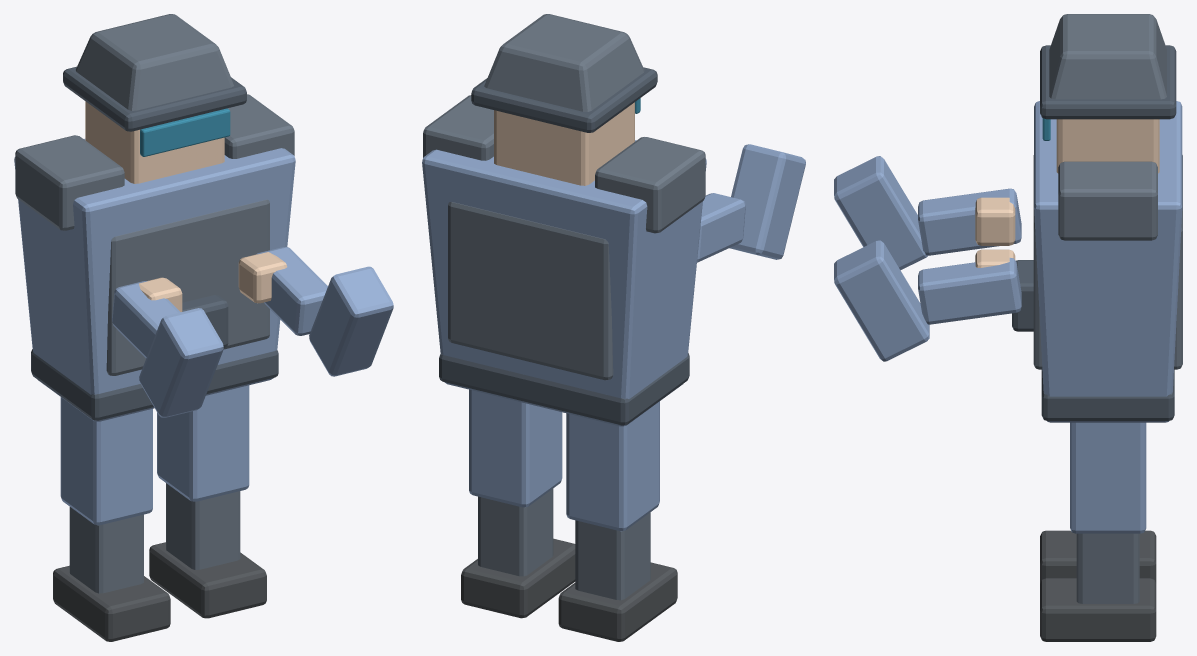
File: soldier.glb
3 renders of one model, left to right at view 1: azimuth 30°, elevation 25°; view 2: azimuth 150°, elevation 25°; view 3: azimuth 270°, elevation 25°, orthographic.
Visible parts, largest first — view 1: torso, vest, helmet, thighL, thighR, padL, upperR, upperL, bootR, bootL, shinR, shinL (+10 smaller); view 2: torso, vest, helmet, thighL, thighR, head, padL, belt, upperL, shinL, shinR, bootL (+4 smaller); view 3: torso, helmet, thighR, padR, upperR, upperL, bootR, foreR, head, shinR, rim, foreL (+6 smaller).
Boxes of the visible parts, left/top/right/bottom form: torso: left=14, top=139, right=295, bottom=421; vest: left=106, top=199, right=269, bottom=375; helmet: left=76, top=14, right=233, bottom=110; thighL: left=60, top=397, right=152, bottom=525; thighR: left=157, top=385, right=249, bottom=501; padL: left=15, top=135, right=124, bottom=230; upperR: left=309, top=266, right=393, bottom=376; upperL: left=139, top=308, right=223, bottom=417; bootR: left=149, top=542, right=266, bottom=618; bootL: left=53, top=565, right=170, bottom=641; shinR: left=166, top=483, right=240, bottom=569; shinL: left=69, top=507, right=143, bottom=593; torso: left=422, top=140, right=706, bottom=426; vest: left=448, top=202, right=613, bottom=380; helmet: left=484, top=14, right=644, bottom=111; thighL: left=566, top=401, right=659, bottom=531; thighR: left=469, top=389, right=562, bottom=507; head: left=494, top=102, right=634, bottom=185; padL: left=595, top=137, right=705, bottom=233; belt: left=439, top=353, right=689, bottom=425; upperL: left=729, top=144, right=805, bottom=259; shinL: left=575, top=512, right=650, bottom=600; shinR: left=478, top=488, right=553, bottom=576; bootL: left=558, top=562, right=677, bottom=641; torso: left=1034, top=101, right=1182, bottom=422; helmet: left=1049, top=14, right=1166, bottom=99; thighR: left=1070, top=422, right=1146, bottom=533; padR: left=1058, top=161, right=1157, bottom=240; upperR: left=834, top=240, right=929, bottom=361; upperL: left=834, top=156, right=928, bottom=270; bootR: left=1040, top=578, right=1156, bottom=641; foreR: left=918, top=258, right=1021, bottom=324; head: left=1056, top=119, right=1159, bottom=173; shinR: left=1076, top=533, right=1139, bottom=603; rim: left=1040, top=45, right=1176, bottom=119; foreL: left=918, top=188, right=1021, bottom=255.
Size of the model in its own units: 0.83 by 1.9 by 1.05.
